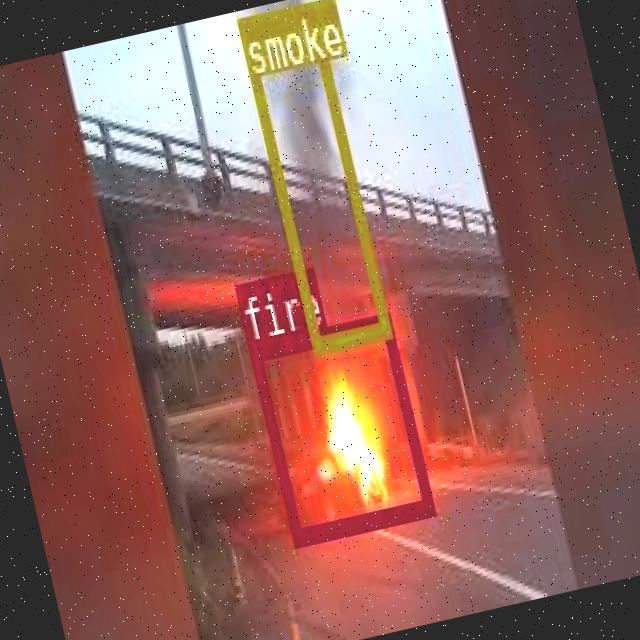fire: (247, 309, 432, 545)
smoke: (233, 0, 389, 351)
